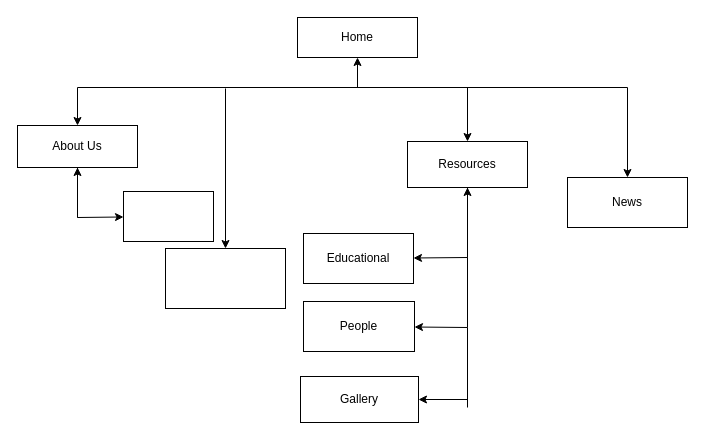
Image size: 705x440. Some labels were removed from this diagram. The shapes that lost their labels are listed below. From the top down, each one's centre as x and y in pixels, then its label:
At pixel 168 216: "Supporters".
At pixel 225 278: "Whats On".
